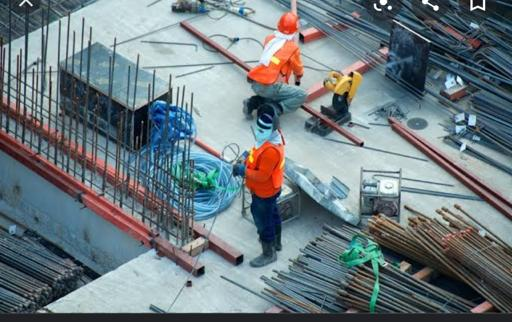safe person: (233, 107, 300, 266), (245, 12, 308, 118)
